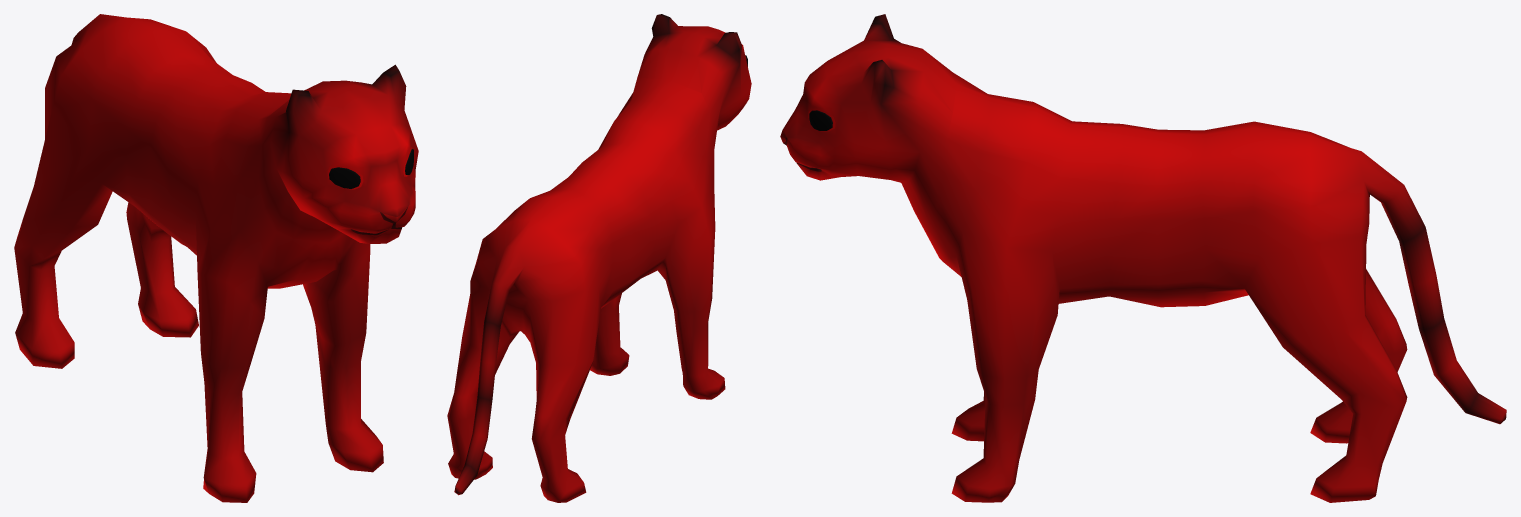
The model's file is Animals_Tiger.fbx.
3 views of the same model, side by side, from view 1: azimuth 30°, elevation 25°; view 2: azimuth 150°, elevation 25°; view 3: azimuth 270°, elevation 25° (orthographic). The views are drawn at different scales.
Visible parts, largest first — view 1: base; view 2: base; view 3: base.
Part boxes in pixels (x1,y1,x2,y2): base: (14, 14, 418, 502); base: (447, 14, 751, 502); base: (780, 14, 1506, 502).
Size of the model in its own units: 58.35 by 141 by 218.
